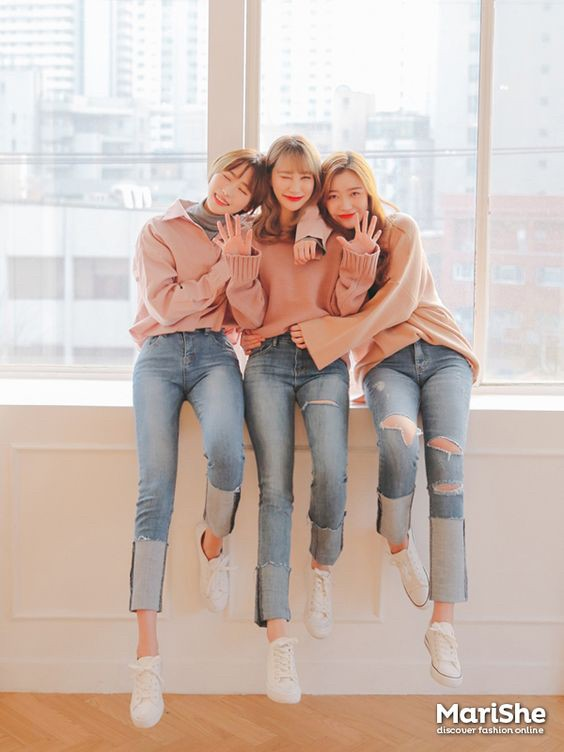people: (318, 150, 457, 685), (145, 146, 262, 674), (250, 131, 332, 700)
